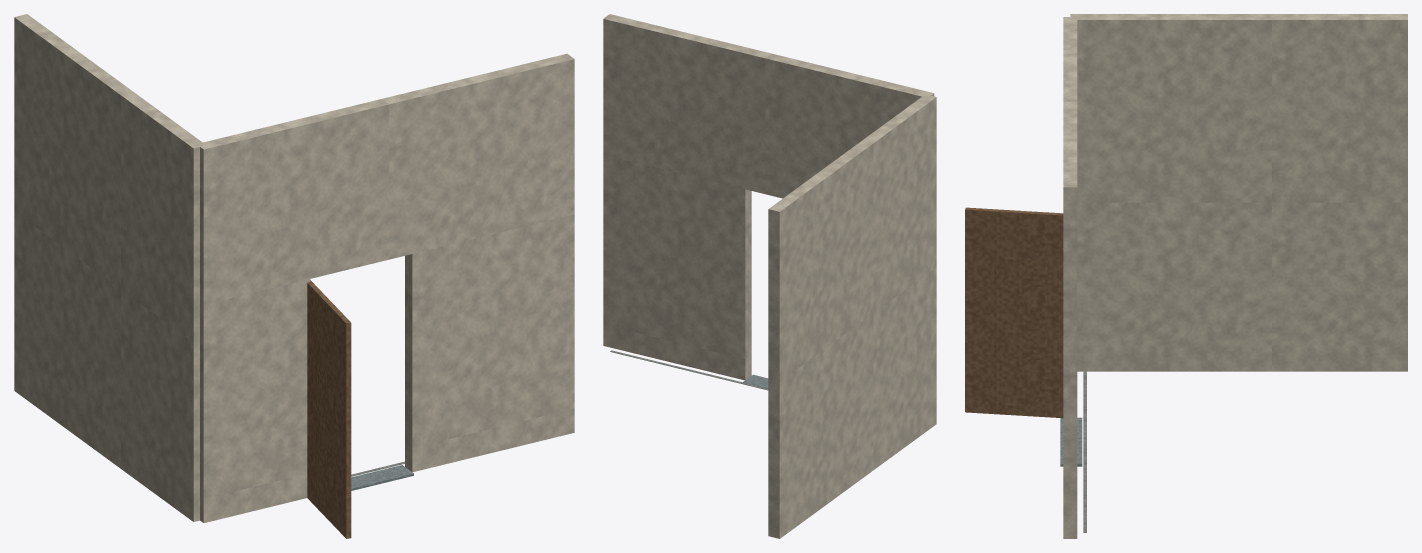
Rendered from PZ_Northline_StorageRoom_Prefab.glb.
The picture shows the model from 3 angles, left to right: view 1: azimuth 30°, elevation 25°; view 2: azimuth 150°, elevation 25°; view 3: azimuth 270°, elevation 25°; orthographic projection. The views are drawn at different scales.
Visible parts, largest first — view 1: STRUCTURE__Storage_Partition_West_Masonry_00, STRUCTURE__Storage_Partition_North_Masonry_02, STRUCTURE__Storage_Partition_North_Masonry_01, STRUCTURE__Storage_Partition_North_Masonry_00, MOVING_DOORS__Storage_Door_OPEN, STORE_INTERIOR__Storage_Door_Sill; view 2: STRUCTURE__Storage_Partition_West_Masonry_00, STRUCTURE__Storage_Partition_North_Masonry_02, STRUCTURE__Storage_Partition_North_Masonry_01, STORE_INTERIOR__Storage_Floor_Strip; view 3: STRUCTURE__Storage_Partition_West_Masonry_00, MOVING_DOORS__Storage_Door_OPEN, STRUCTURE__Storage_Partition_North_Masonry_02, STRUCTURE__Storage_Partition_North_Masonry_01, STORE_INTERIOR__Storage_Floor_Strip.
Boxes of the visible parts, x1,y1,x2,y2 form: STRUCTURE__Storage_Partition_West_Masonry_00: (14, 14, 202, 521); STRUCTURE__Storage_Partition_North_Masonry_02: (196, 53, 574, 304); STRUCTURE__Storage_Partition_North_Masonry_01: (405, 214, 574, 472); STRUCTURE__Storage_Partition_North_Masonry_00: (200, 279, 310, 522); MOVING_DOORS__Storage_Door_OPEN: (307, 280, 351, 538); STORE_INTERIOR__Storage_Door_Sill: (351, 465, 413, 490); STRUCTURE__Storage_Partition_West_Masonry_00: (768, 95, 936, 538); STRUCTURE__Storage_Partition_North_Masonry_02: (603, 14, 934, 198); STRUCTURE__Storage_Partition_North_Masonry_01: (603, 155, 751, 380); STORE_INTERIOR__Storage_Floor_Strip: (610, 350, 768, 390); STRUCTURE__Storage_Partition_West_Masonry_00: (1070, 14, 1407, 371); MOVING_DOORS__Storage_Door_OPEN: (965, 207, 1063, 418); STRUCTURE__Storage_Partition_North_Masonry_02: (1063, 17, 1077, 333); STRUCTURE__Storage_Partition_North_Masonry_01: (1063, 333, 1077, 538); STORE_INTERIOR__Storage_Floor_Strip: (1083, 371, 1086, 532).
Size of the model in its own units: 4.07 by 3.87 by 4.39.
5 materials, 5 textured.
